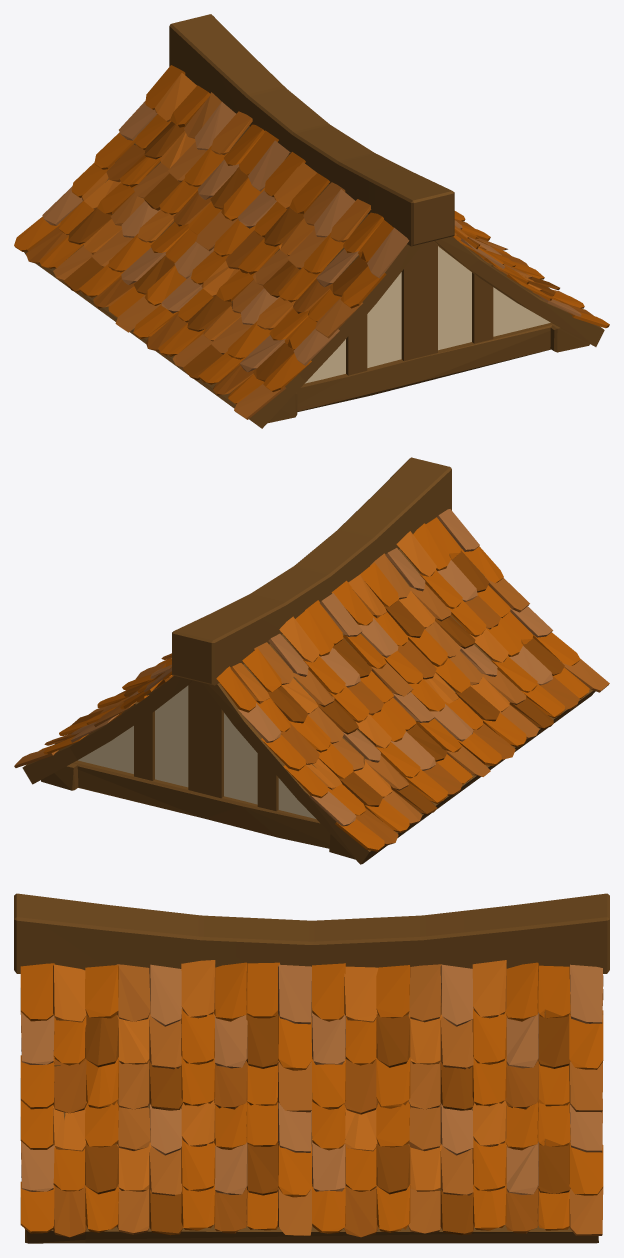
File: Roof_01.fbx
3 renders of one model, top to bottom at view 1: azimuth 30°, elevation 25°; view 2: azimuth 150°, elevation 25°; view 3: azimuth 270°, elevation 25°, orthographic. The views are drawn at different scales.
Visible parts, largest first — view 1: Roof_01; view 2: Roof_01; view 3: Roof_01.
Part boxes in pixels (x1,y1,x2,y2): Roof_01: [14, 14, 609, 428]; Roof_01: [14, 457, 609, 864]; Roof_01: [14, 893, 609, 1243].
Size of the model in its own units: 587 by 295 by 665.
